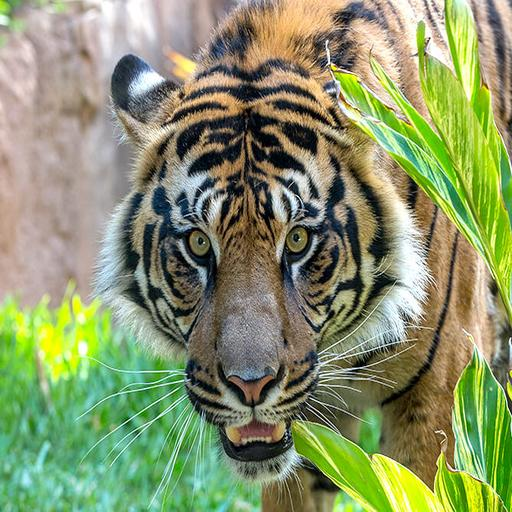Tiger: (88, 0, 512, 512)
